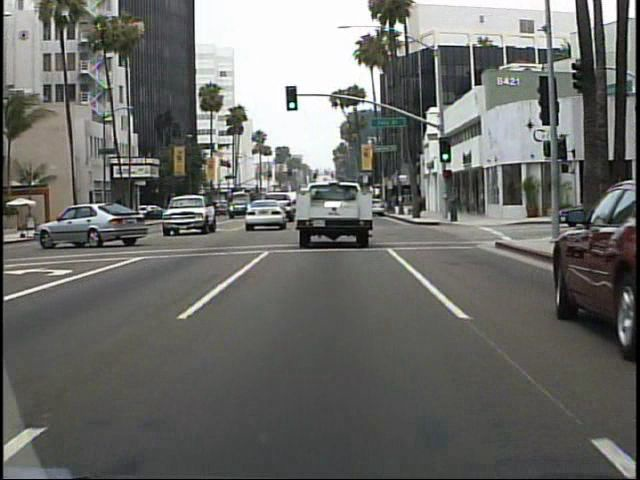person: (446, 183, 464, 225)
